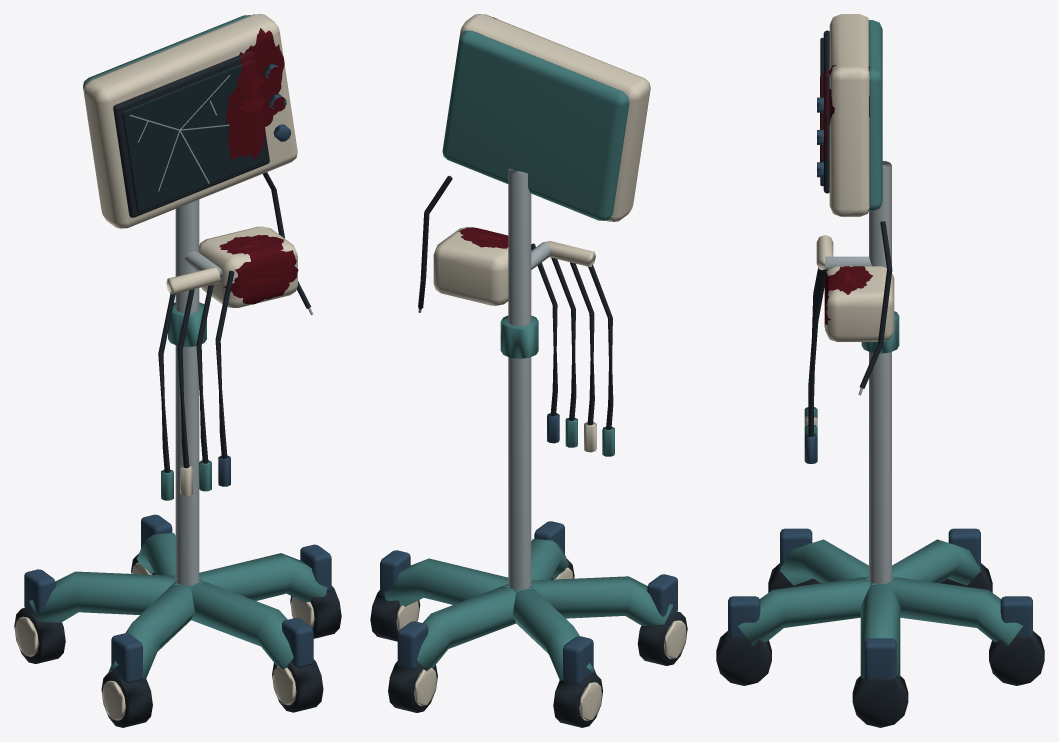
File: patient_monitor.glb
3 renders of one model, left to right at view 1: azimuth 30°, elevation 25°; view 2: azimuth 150°, elevation 25°; view 3: azimuth 270°, elevation 25°, orthographic. The views are drawn at different scales.
Parts seen in each view (by area): view 1: OB_PatientMonitor_01_Static; view 2: OB_PatientMonitor_01_Static; view 3: OB_PatientMonitor_01_Static.
Part boxes in pixels (<box>): OB_PatientMonitor_01_Static: <box>14,14,341,727</box>; OB_PatientMonitor_01_Static: <box>370,14,687,727</box>; OB_PatientMonitor_01_Static: <box>716,14,1044,727</box>.
Size of the model in its own units: 0.6238 by 1.49 by 0.7097.
